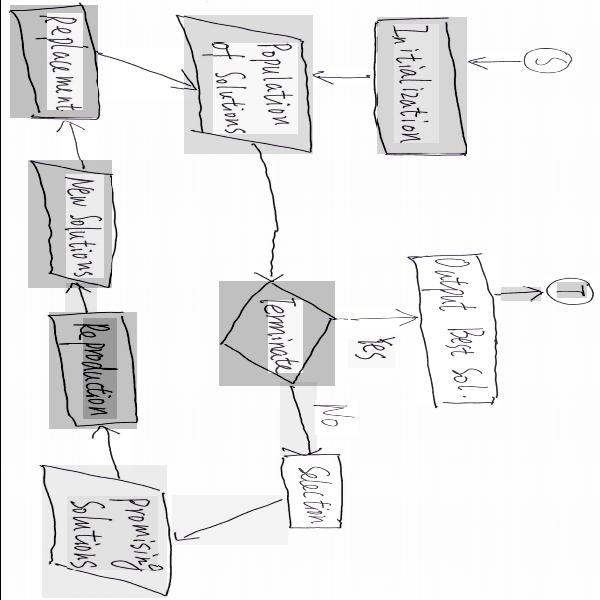arrow: (171, 495, 287, 545), (104, 48, 198, 100), (254, 150, 284, 283), (279, 382, 316, 456), (88, 426, 130, 476), (59, 120, 95, 167), (334, 308, 414, 329), (458, 52, 522, 70), (64, 283, 96, 312), (307, 69, 365, 84), (500, 288, 540, 302)
data: (183, 16, 312, 154), (41, 466, 166, 598), (27, 160, 110, 288)
decision: (218, 282, 333, 386)
process: (376, 18, 465, 154), (416, 256, 497, 403), (48, 313, 136, 429), (9, 6, 96, 118)
terminator: (519, 49, 579, 73), (544, 278, 595, 304)
text: (425, 258, 486, 396), (212, 43, 297, 134), (66, 496, 157, 570), (393, 24, 438, 143), (64, 174, 102, 278), (46, 13, 82, 110), (82, 318, 116, 419), (291, 464, 335, 528), (267, 300, 302, 373), (314, 400, 356, 435), (347, 339, 394, 368), (556, 282, 586, 298), (536, 54, 564, 68)
